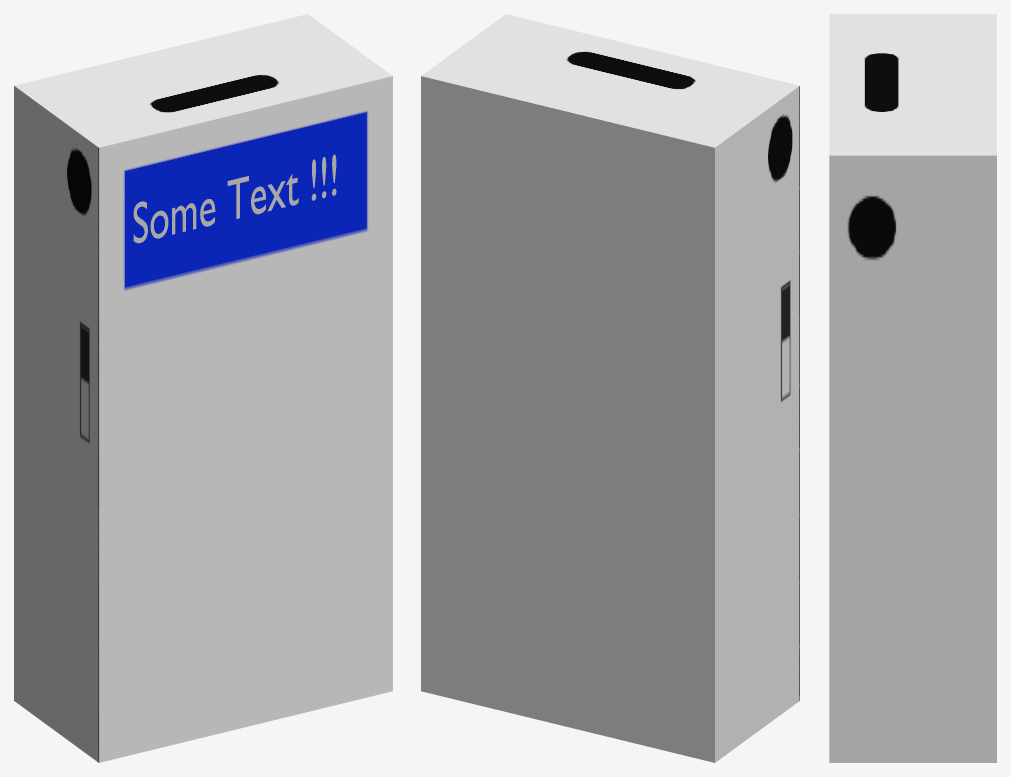
Rendered from Sensor.WithText.glb.
3 renders of one model, left to right at view 1: azimuth 30°, elevation 25°; view 2: azimuth 150°, elevation 25°; view 3: azimuth 270°, elevation 25°, orthographic.
Visible parts, largest first — view 1: Cube, Text; view 2: Cube; view 3: Cube.
Boxes of the visible parts, x1,y1,x2,y2 form: Cube: (14,14,392,762); Text: (133,154,336,243); Cube: (421,14,799,762); Cube: (829,14,996,762).
Bounding box in the file's own units: 0.25 × 0.5 × 0.126.
Materials: 1 (1 with a texture image).
